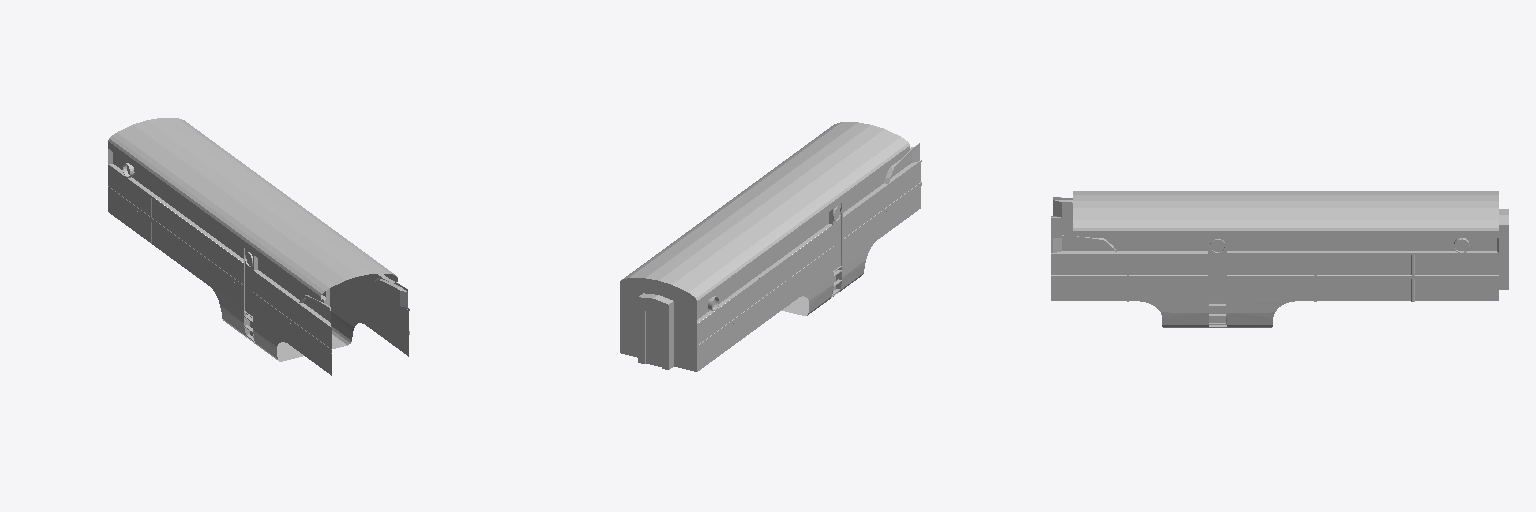
File: body.obj
The picture shows the model from 3 angles: view 1: azimuth 30°, elevation 25°; view 2: azimuth 150°, elevation 25°; view 3: azimuth 270°, elevation 25°; orthographic projection.
Parts seen in each view (by area): view 1: model.005_Plane.006_Plane.001; view 2: model.005_Plane.006_Plane.001; view 3: model.005_Plane.006_Plane.001.
Part boxes in pixels (x1,y1,x2,y2): model.005_Plane.006_Plane.001: (108,118,409,375); model.005_Plane.006_Plane.001: (620,122,921,371); model.005_Plane.006_Plane.001: (1051,191,1508,327).
Bounding box in the file's own units: 12.74 × 17.34 × 64.96.